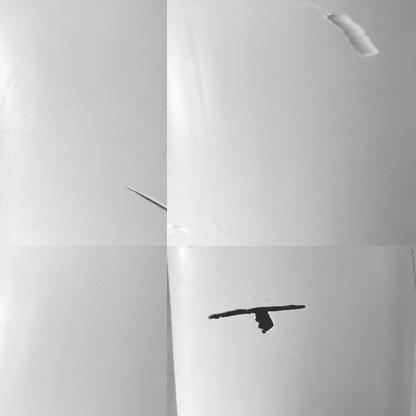fengxi: (200, 301, 306, 319)
kongdong: (249, 312, 276, 334)
sunshang: (324, 7, 382, 60), (124, 184, 169, 214)
